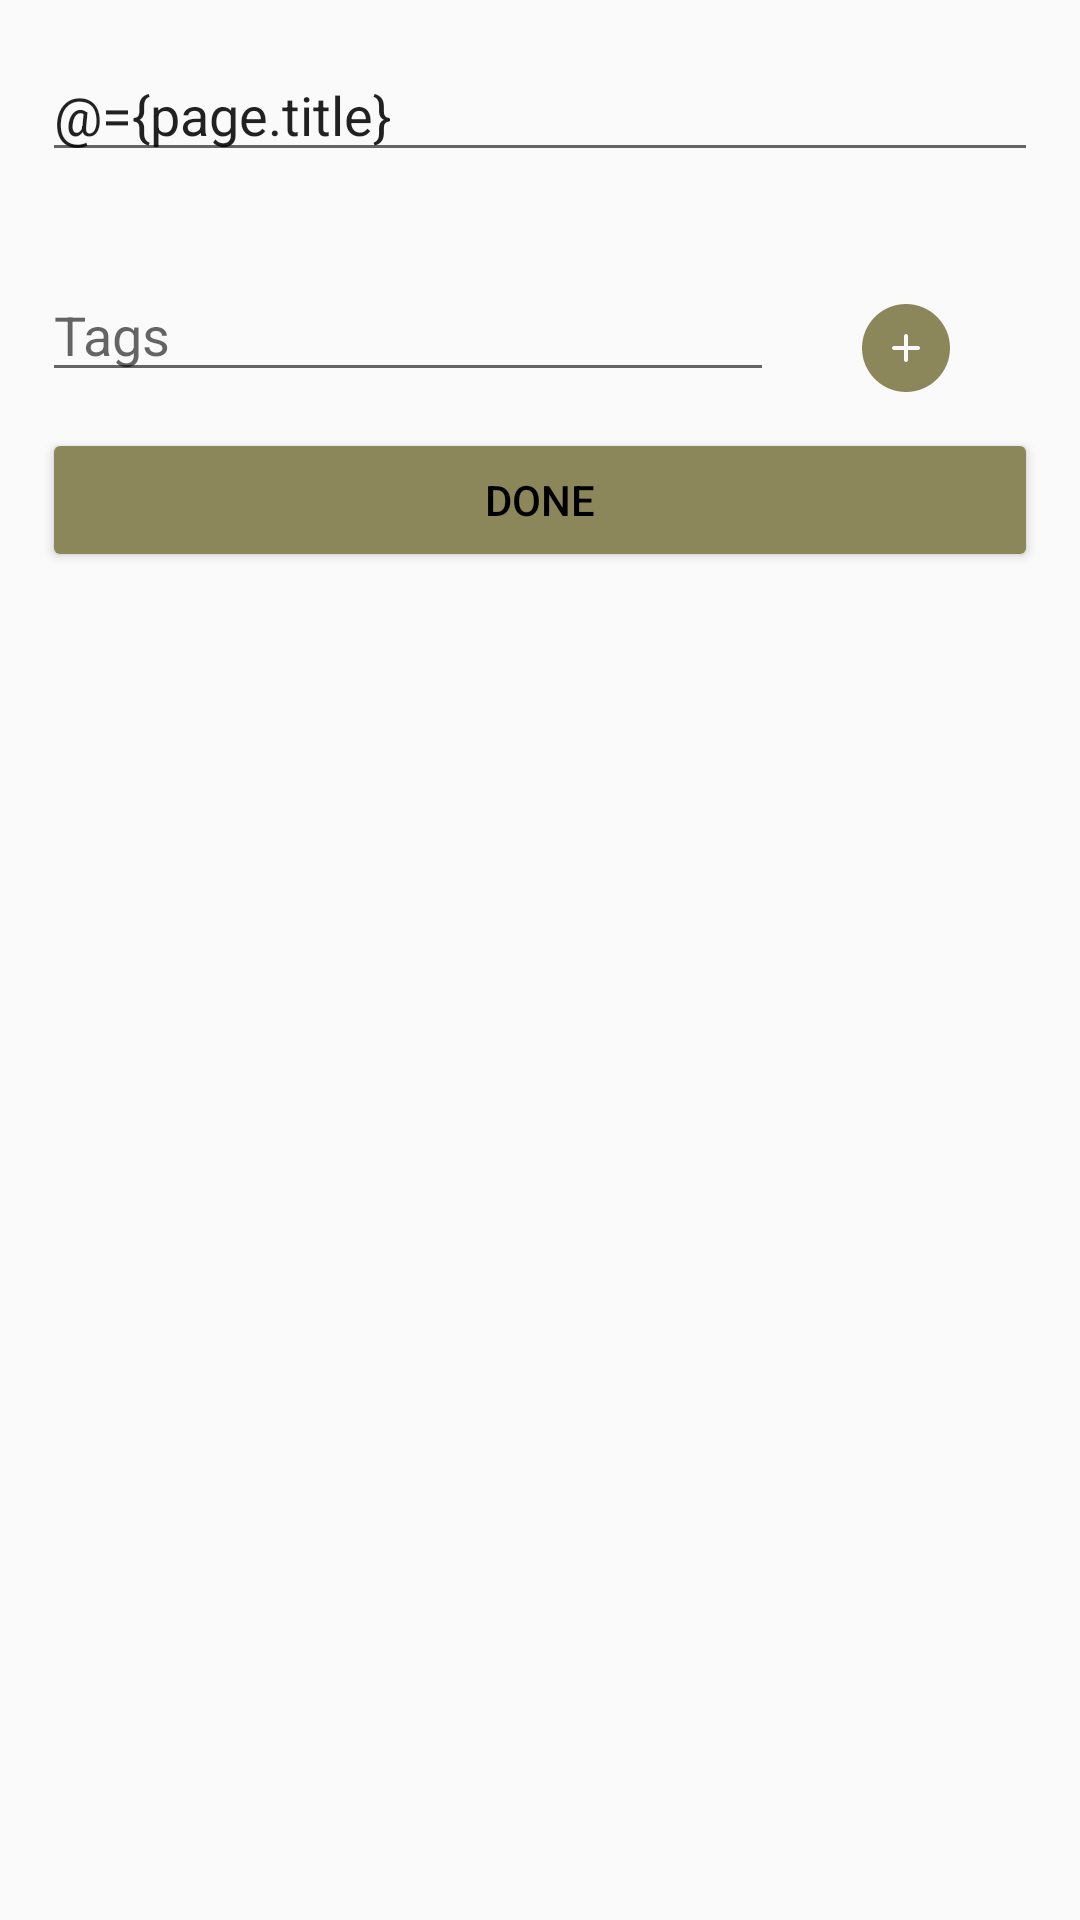

Point at icon controls on the screen. Image size 1080*1920, points as [x,y].
add: [906,348]
